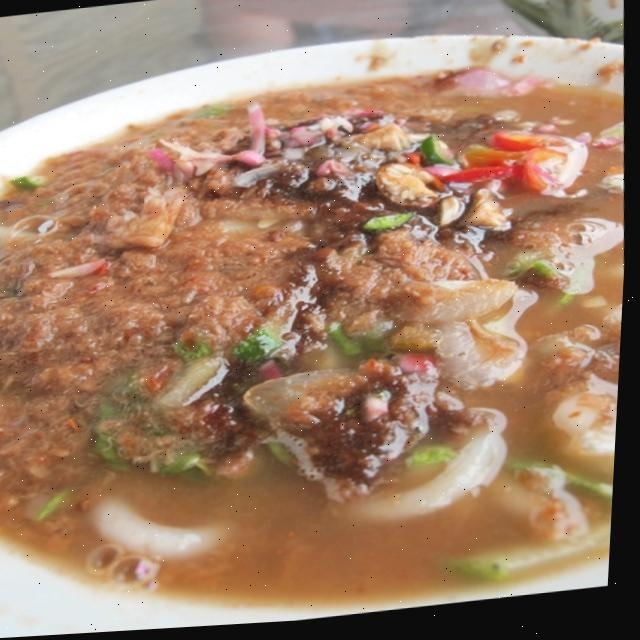面条主食: (0, 21, 638, 628)
